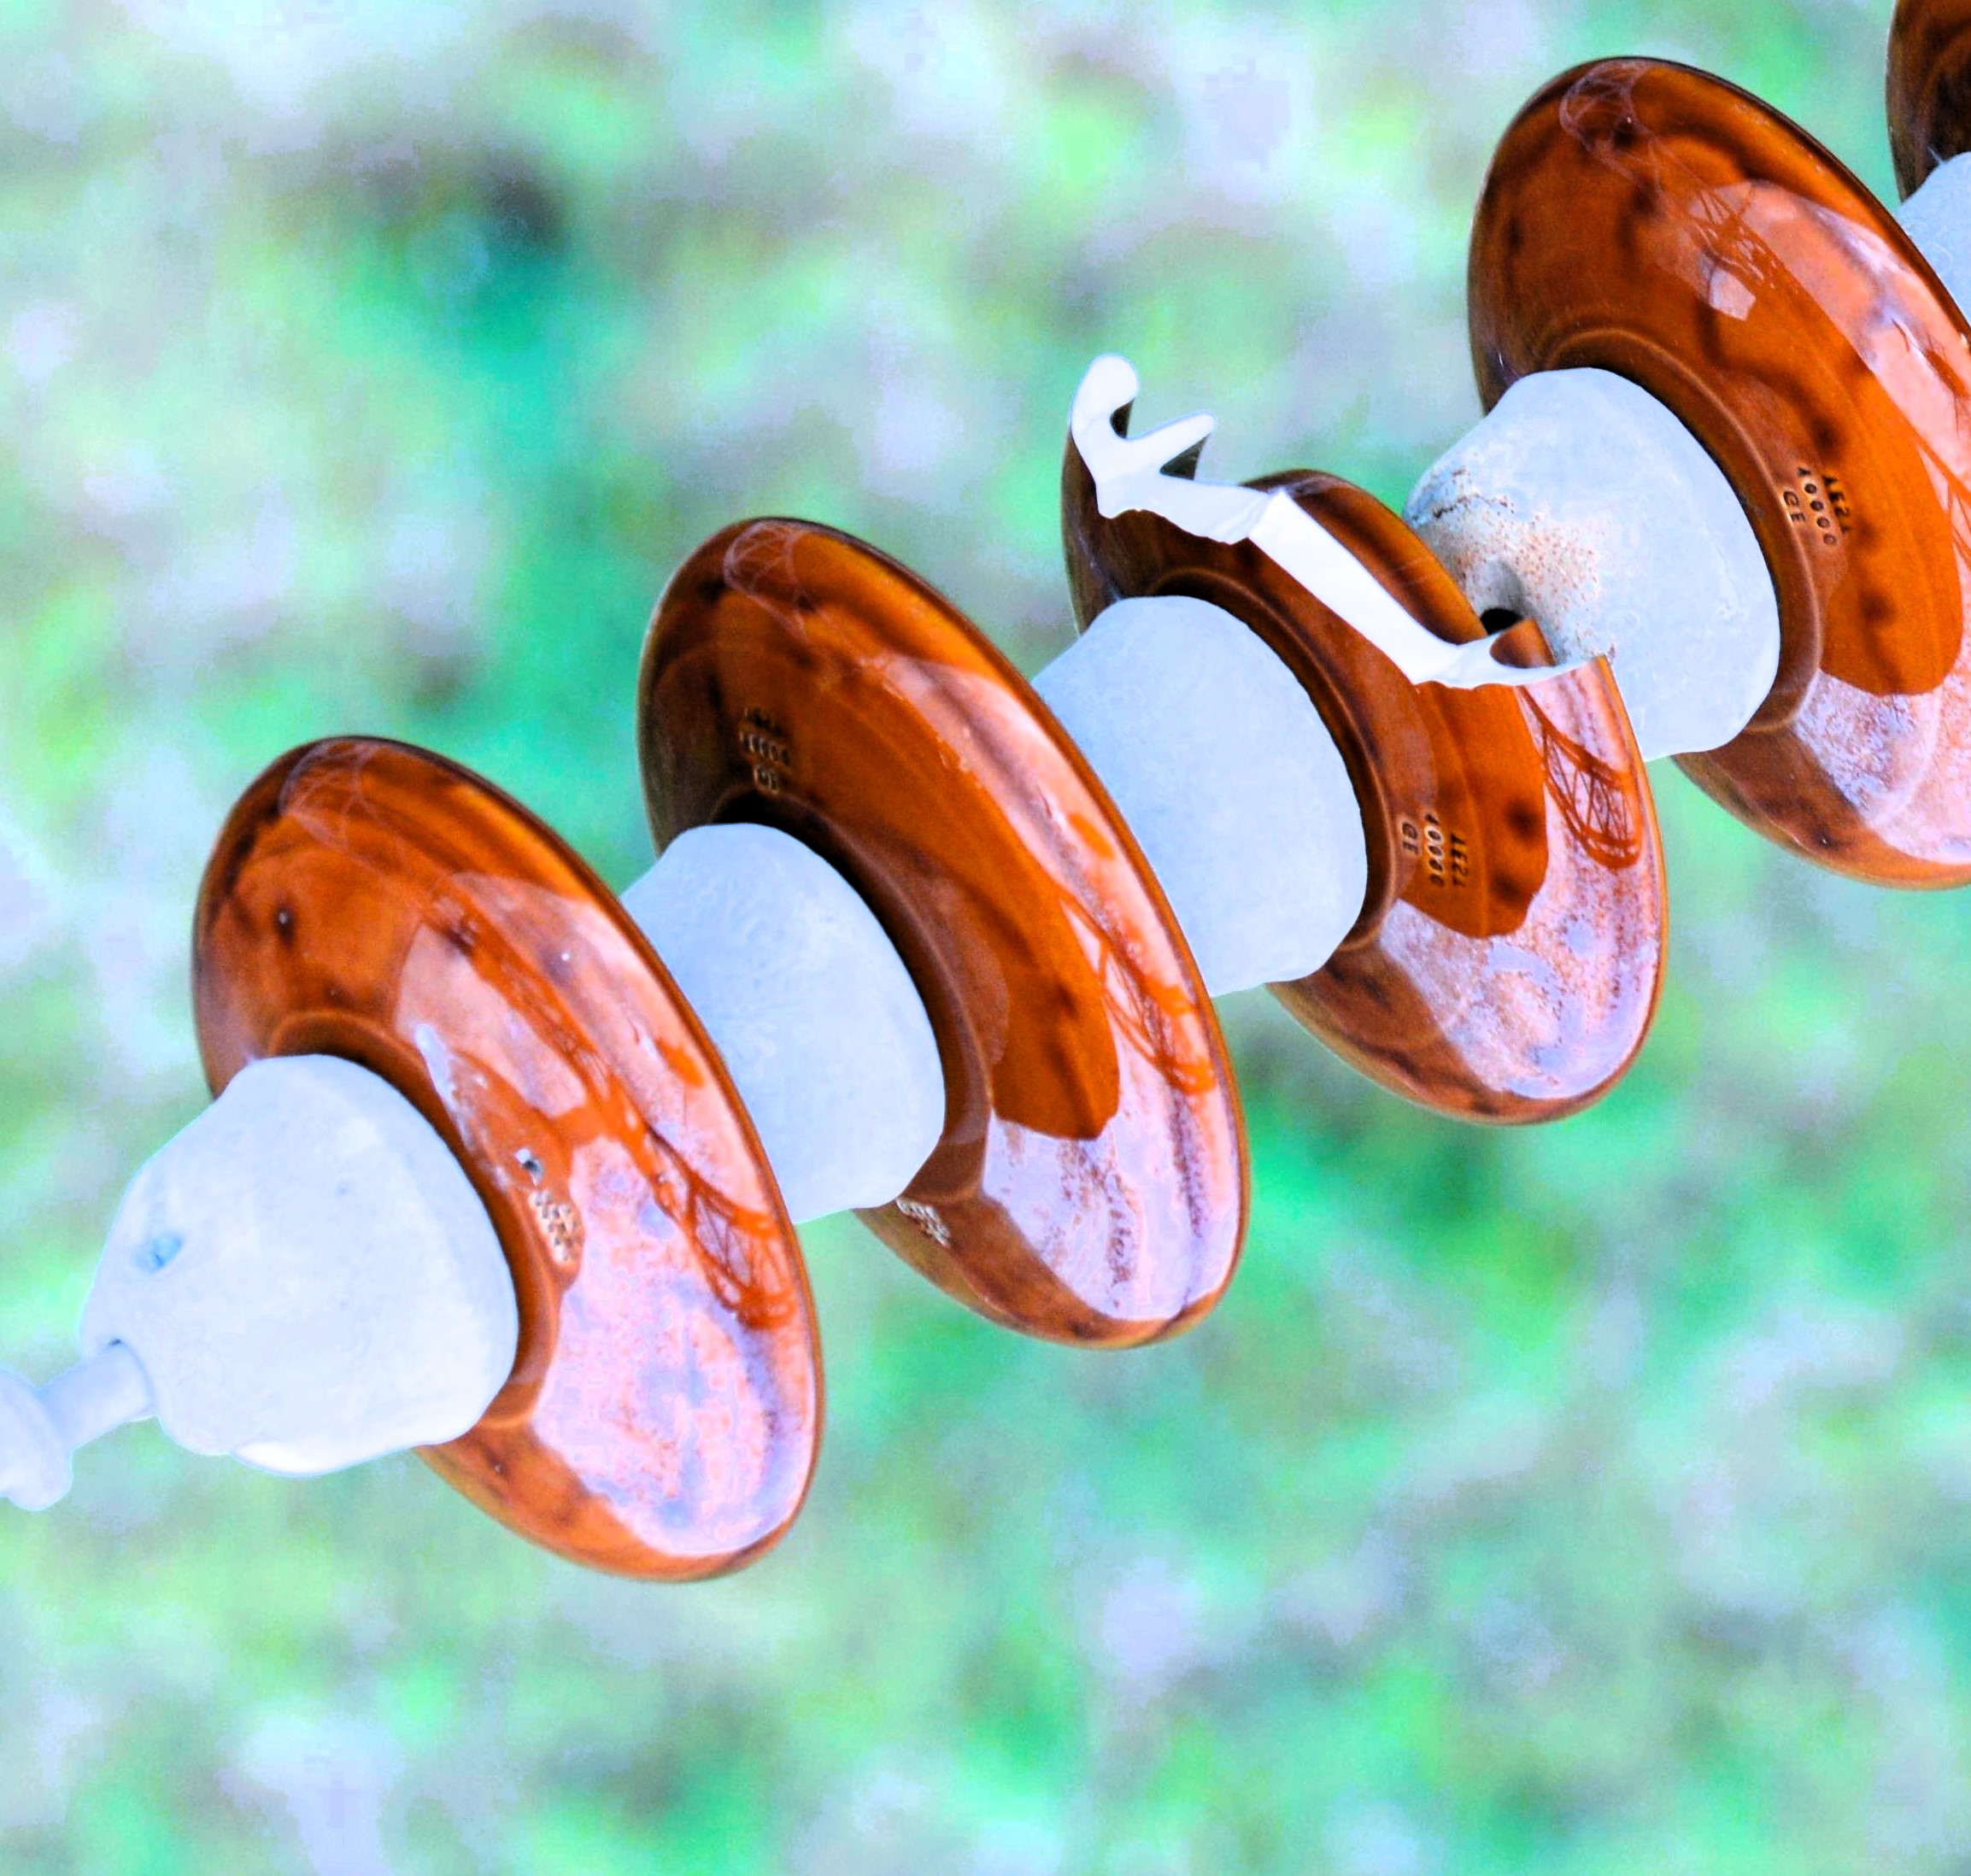insulator breakage: (1010, 308, 1707, 1160)
